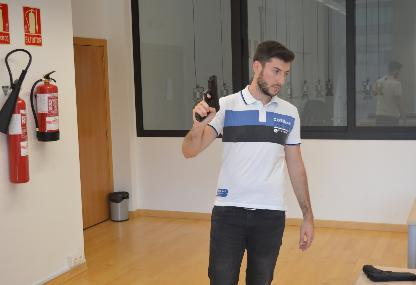pistol: (194, 74, 219, 121)
